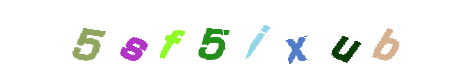5: (69, 0, 149, 80), (184, 0, 264, 80)
B: (289, 0, 369, 80)
F: (131, 0, 211, 80)
J: (222, 0, 302, 80)
S: (93, 0, 173, 80)
U: (256, 0, 336, 80)
X: (228, 0, 308, 80)
